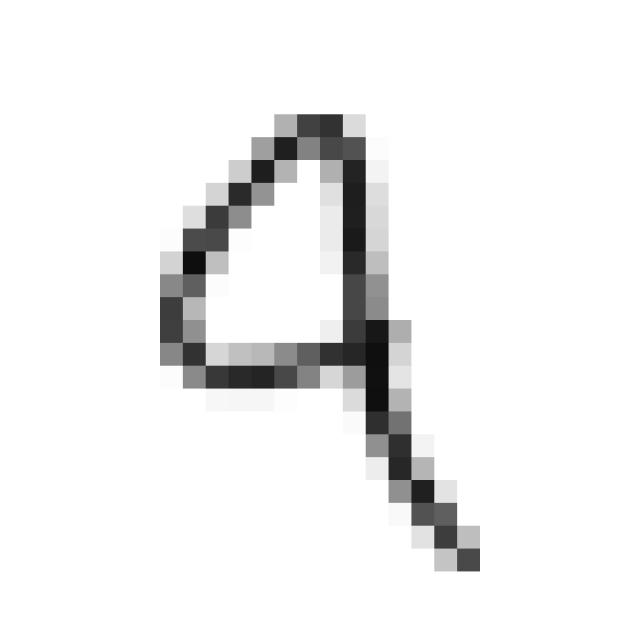9 -nine-: (135, 91, 519, 598)
